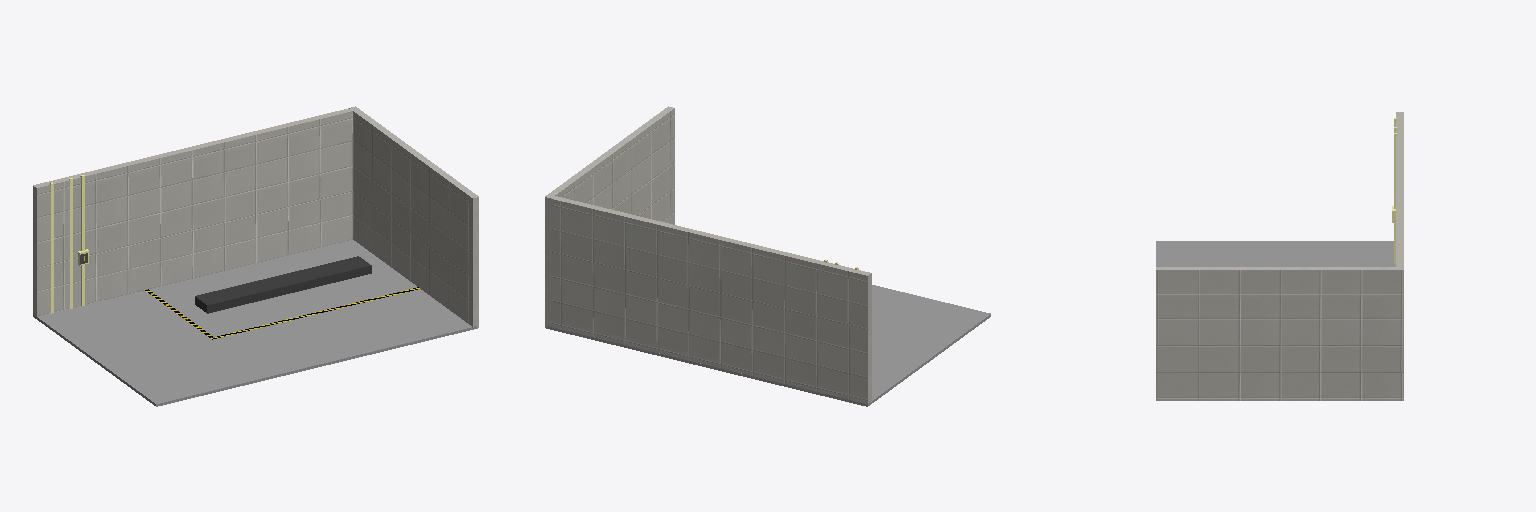
The picture shows the model from 3 angles: view 1: azimuth 30°, elevation 25°; view 2: azimuth 150°, elevation 25°; view 3: azimuth 270°, elevation 25°; orthographic projection.
Parts seen in each view (by area): view 1: W001, Object001, Box088, Box089, TextPlus001, Box046; view 2: W001, Box088, Object001; view 3: Box088, Object001, W001.
Boxes of the visible parts, box(x1,y1,x2,y2) form: W001: box(33, 108, 352, 316); Object001: box(33, 240, 476, 406); Box088: box(349, 106, 478, 328); Box089: box(195, 256, 371, 313); TextPlus001: box(50, 175, 88, 313); Box046: box(145, 287, 419, 339); W001: box(551, 196, 871, 403); Box088: box(545, 106, 674, 328); Object001: box(547, 285, 990, 406); Box088: box(1156, 267, 1403, 400); Object001: box(1156, 241, 1395, 266); W001: box(1396, 112, 1403, 266).
Size of the model in its own units: 754 by 296 by 500.
1 materials, 1 textured.